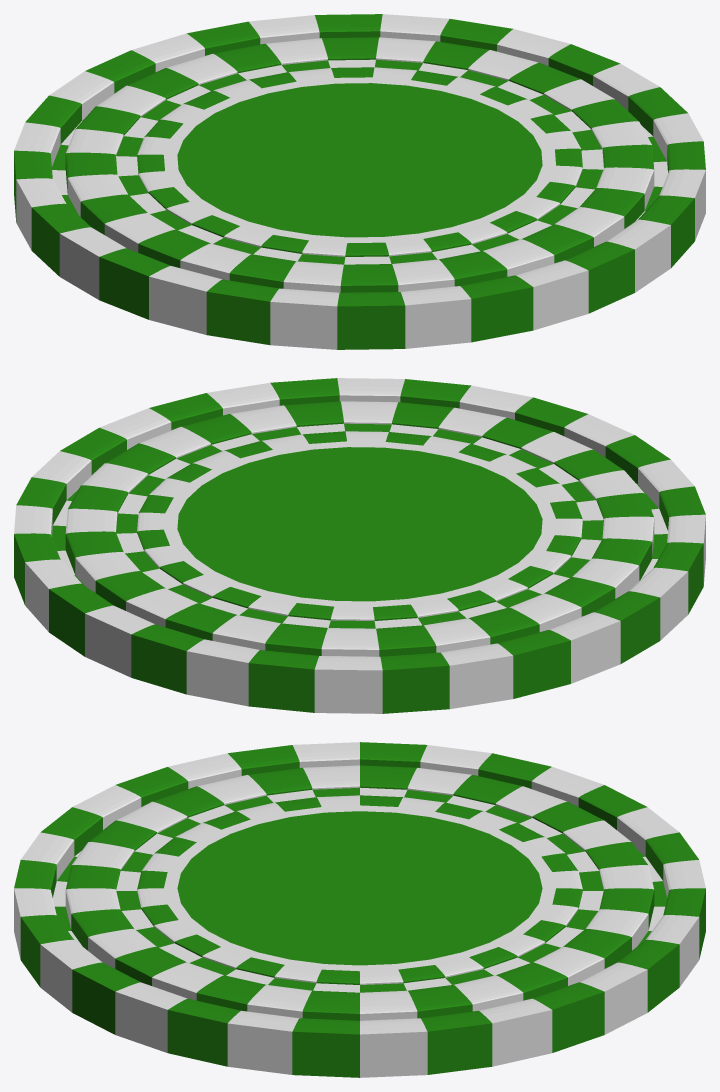
Rendered from letitride2.glb.
The picture shows the model from 3 angles, top to bottom: view 1: azimuth 30°, elevation 25°; view 2: azimuth 150°, elevation 25°; view 3: azimuth 270°, elevation 25°; orthographic projection.
Visible parts, largest first — view 1: Cylinder; view 2: Cylinder; view 3: Cylinder.
Part boxes in pixels (x1,y1,x2,y2): Cylinder: [14, 14, 705, 349]; Cylinder: [14, 378, 705, 713]; Cylinder: [14, 742, 705, 1077].
Bounding box in the file's own units: 2 × 0.1382 × 2.
